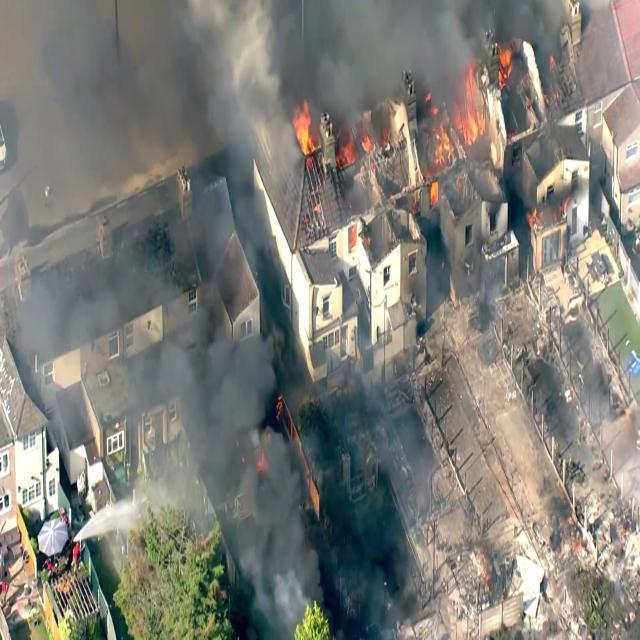Fire: (414, 73, 492, 173), (318, 135, 373, 179), (286, 104, 315, 163)
Smoke: (202, 0, 359, 107), (235, 448, 308, 618), (179, 346, 264, 439)
